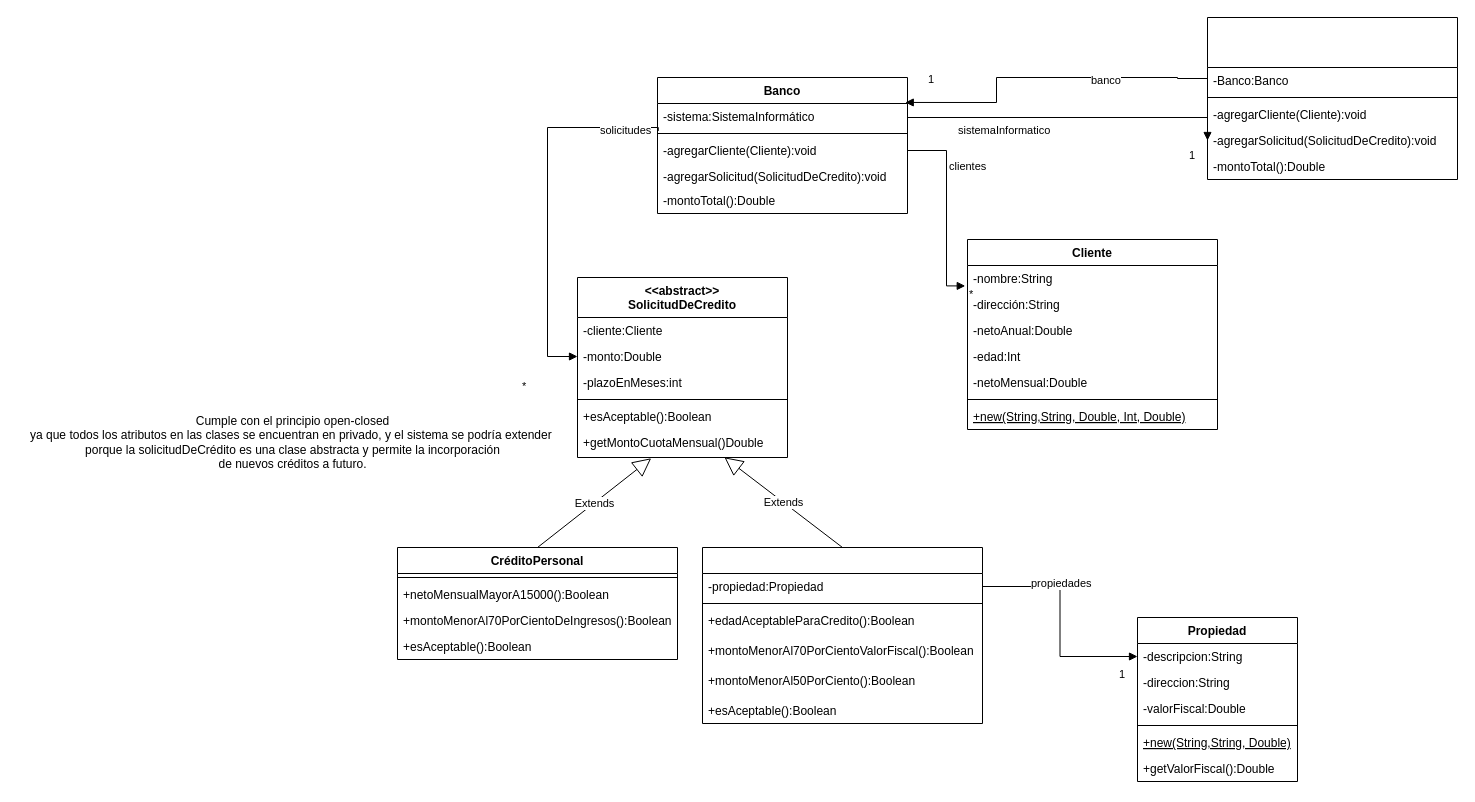
Image size: 1475x802. Some labels were removed from this diagram. The box of each missing label's shape, as (x1, y1, x2, y2) in pixels:
CréditoHipotecario: (702, 546, 982, 724)
SistemaInformático: (1206, 16, 1458, 180)
